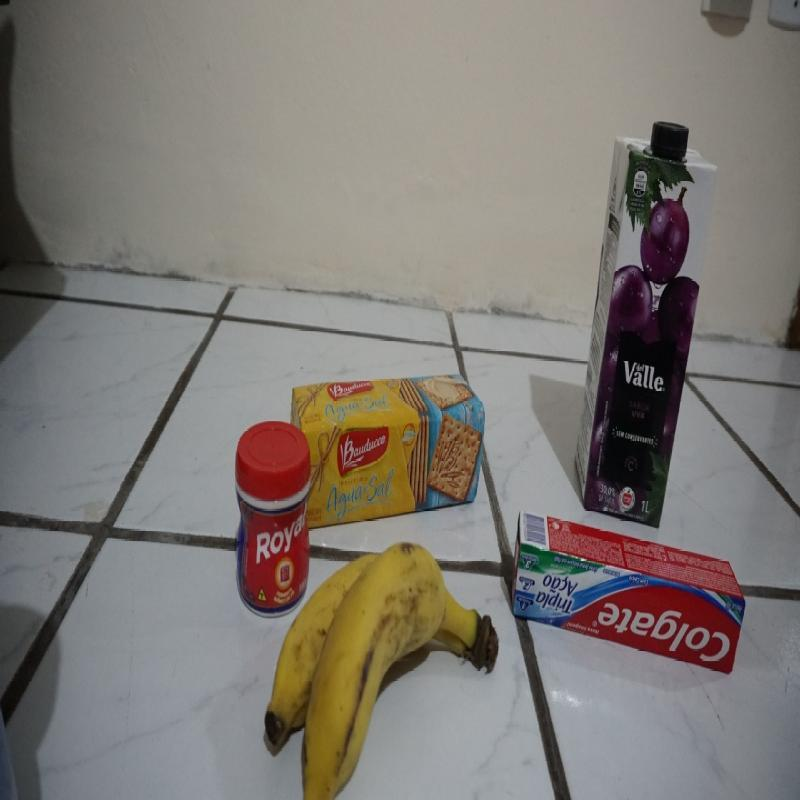Banana: (316, 523, 500, 800)
Cracker: (313, 370, 486, 518)
Toothpaste: (514, 505, 750, 686)
Yeast: (232, 429, 314, 611)
